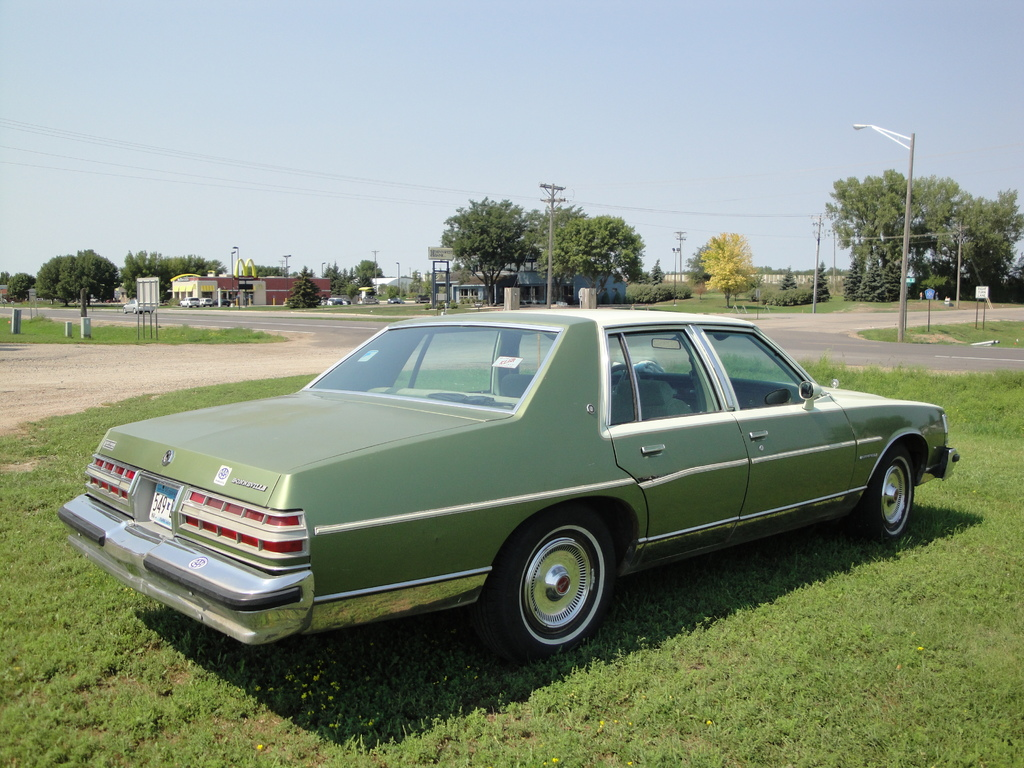Car: (25, 309, 952, 667)
